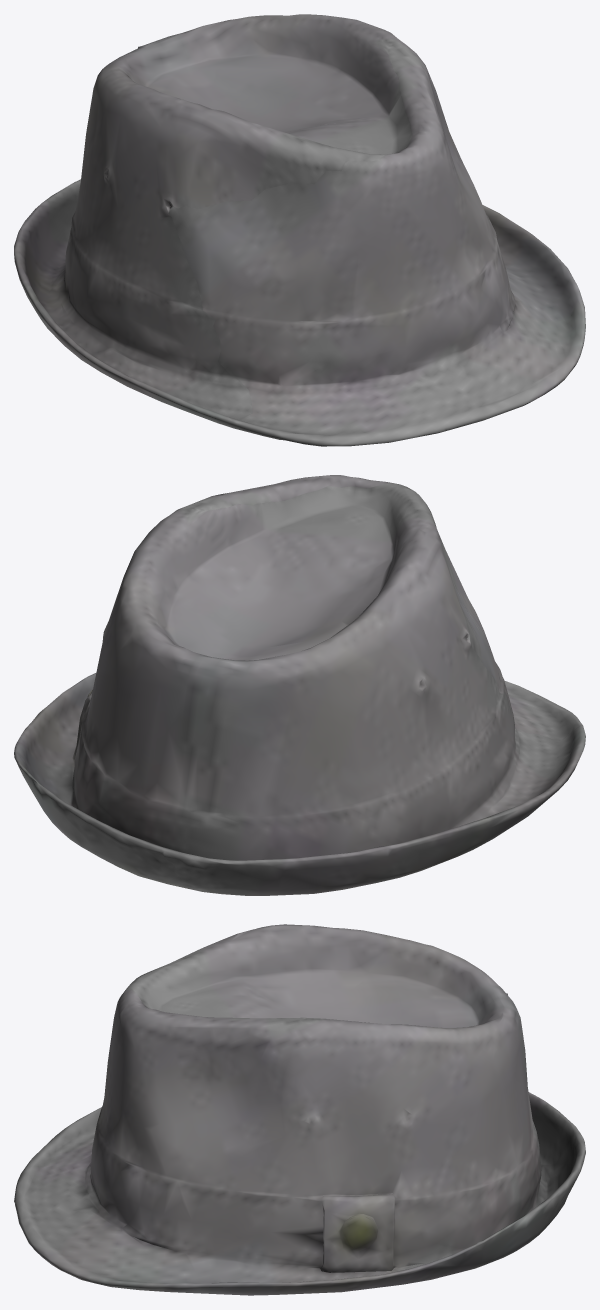
The model's file is Retail_Leadership_Summit_eCT3zqHYIkX-high.glb.
3 views of the same model, one above another, from view 1: azimuth 30°, elevation 25°; view 2: azimuth 150°, elevation 25°; view 3: azimuth 270°, elevation 25° (orthographic). The views are drawn at different scales.
Visible parts, largest first — view 1: Retail_Leadership_Summit_eCT3zqHYIkX; view 2: Retail_Leadership_Summit_eCT3zqHYIkX; view 3: Retail_Leadership_Summit_eCT3zqHYIkX.
Part boxes in pixels (x1=…): Retail_Leadership_Summit_eCT3zqHYIkX: x1=14, y1=14, x2=585, y2=446; Retail_Leadership_Summit_eCT3zqHYIkX: x1=14, y1=475, x2=585, y2=895; Retail_Leadership_Summit_eCT3zqHYIkX: x1=14, y1=924, x2=585, y2=1295.
Bounding box in the file's own units: 0.2422 × 0.1237 × 0.2739.
Materials: 1 (1 with a texture image).
